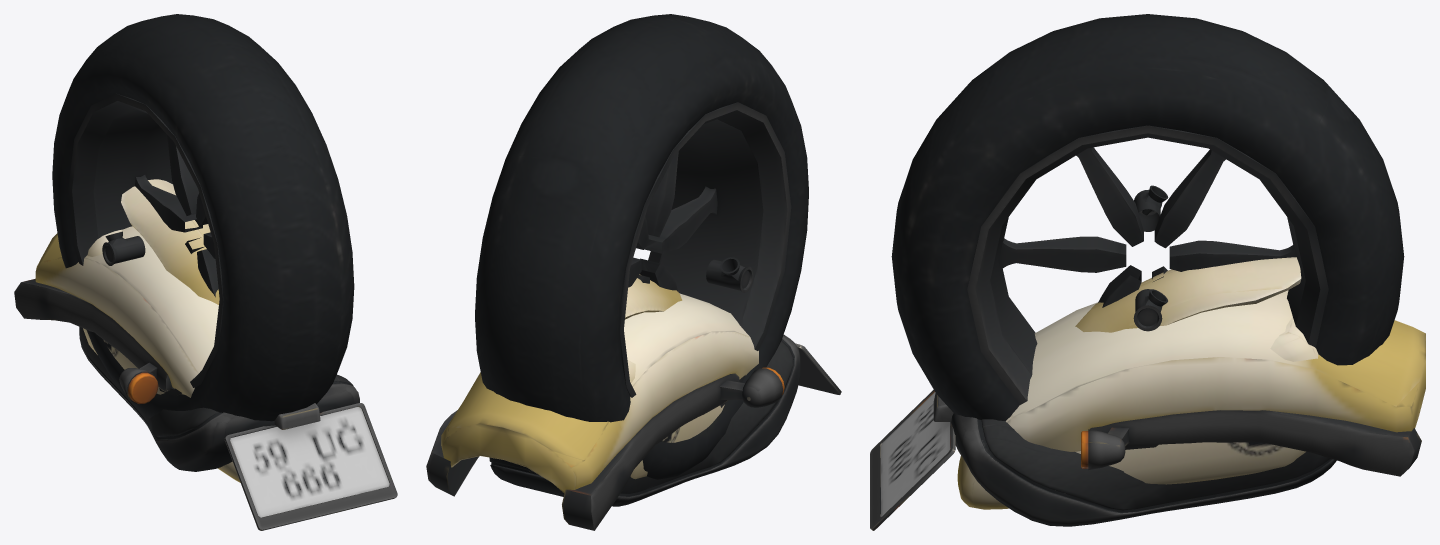
Rendered from HarleyDavidson_Items.fbx.
The picture shows the model from 3 angles, left to right: view 1: azimuth 30°, elevation 25°; view 2: azimuth 150°, elevation 25°; view 3: azimuth 270°, elevation 25°; orthographic projection. The views are drawn at different scales.
Parts seen in each view (by area): view 1: hd_WI_Tire, hd_WI_FenderRear, hd_WI_Seat, hd_WI_FenderFront, hd_WI_GasTank; view 2: hd_WI_Tire, hd_WI_FenderRear, hd_WI_Seat, hd_WI_FenderFront, hd_WI_GasTank; view 3: hd_WI_Tire, hd_WI_FenderRear, hd_WI_Seat, hd_WI_GasTank, hd_WI_FenderFront.
Part boxes in pixels (x1,y1,x2,y2): hd_WI_Tire: (52,14,354,421); hd_WI_FenderRear: (14,226,397,530); hd_WI_Seat: (79,327,359,471); hd_WI_FenderFront: (121,179,219,304); hd_WI_GasTank: (83,229,240,482); hd_WI_Tire: (475,14,808,479); hd_WI_FenderRear: (426,293,841,530); hd_WI_Seat: (489,334,800,506); hd_WI_FenderFront: (625,274,682,319); hd_WI_GasTank: (627,360,724,479); hd_WI_Tire: (891,14,1404,420); hd_WI_FenderRear: (870,290,1425,530); hd_WI_Seat: (951,413,1336,526); hd_WI_GasTank: (957,317,1318,509); hd_WI_FenderFront: (1075,257,1301,332).
Bounding box in the file's own units: 4.39 × 7.68 × 8.32.
